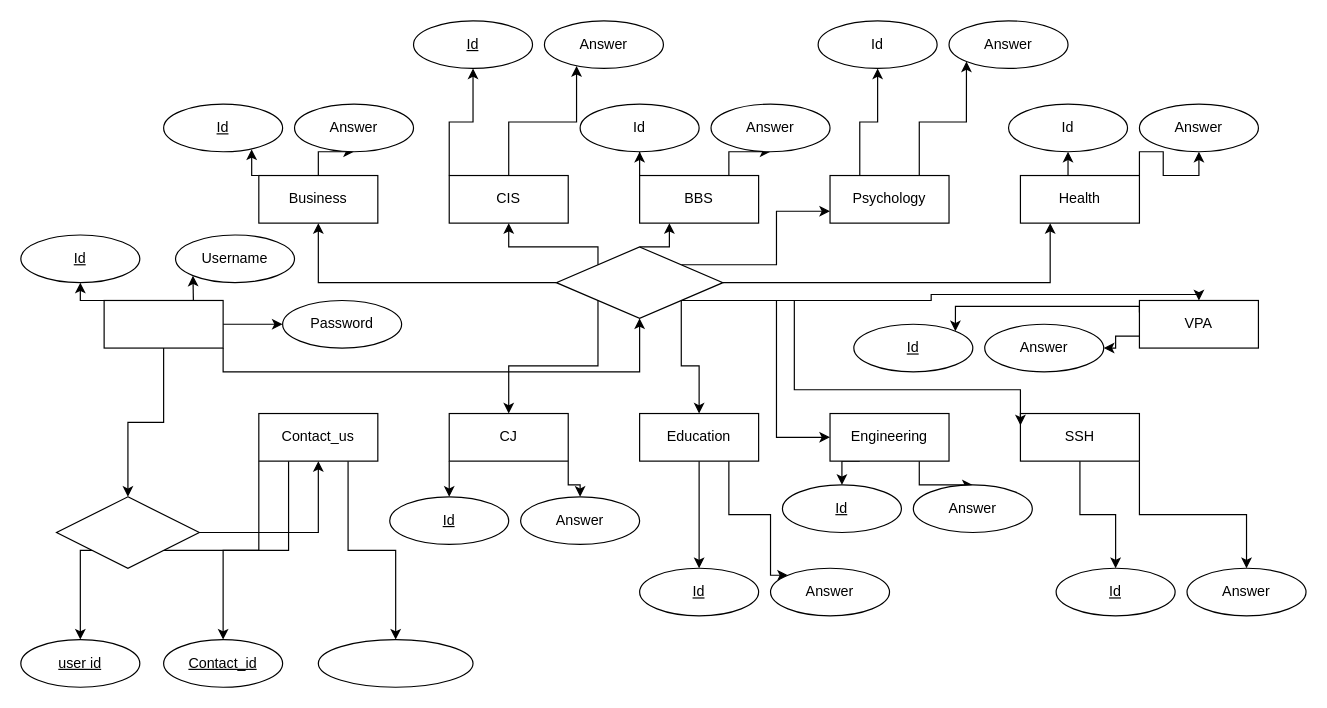
The diagram is 1327 pixels wide and 708 high, and some of its shapes have lost their labels. Here are the shapes that lost their labels. From the top down, the box of each, then its label:
(555, 246, 723, 318): INTERACTS WITH
(103, 299, 223, 348): UserInfo
(55, 496, 199, 568): MAKES CONTACT
(317, 638, 473, 687): Comment/Question
